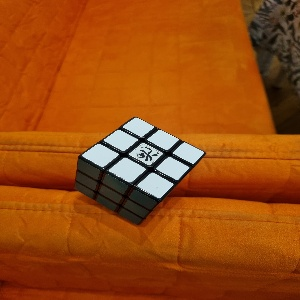cube: (74, 116, 207, 227)
